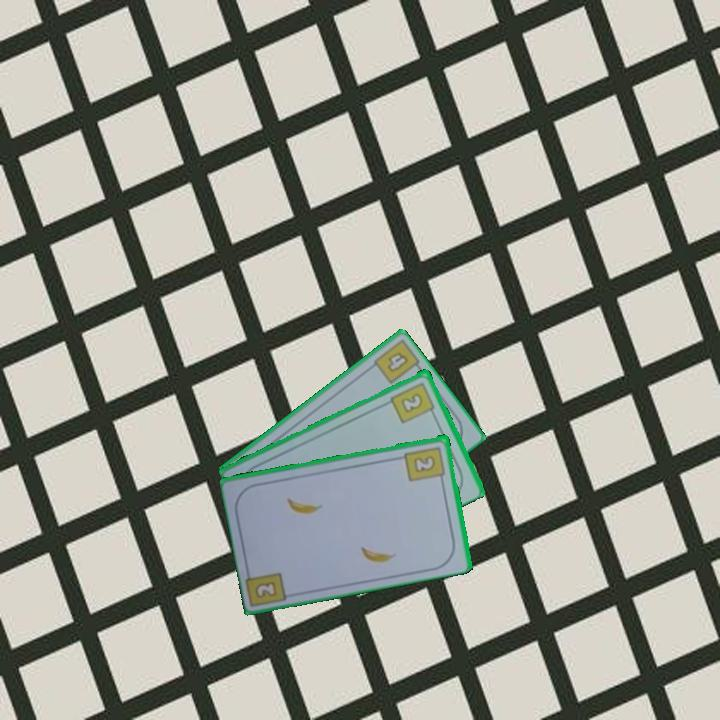2b: (387, 378, 438, 426), (401, 443, 448, 485), (251, 577, 280, 601)
4b: (384, 348, 411, 375)
